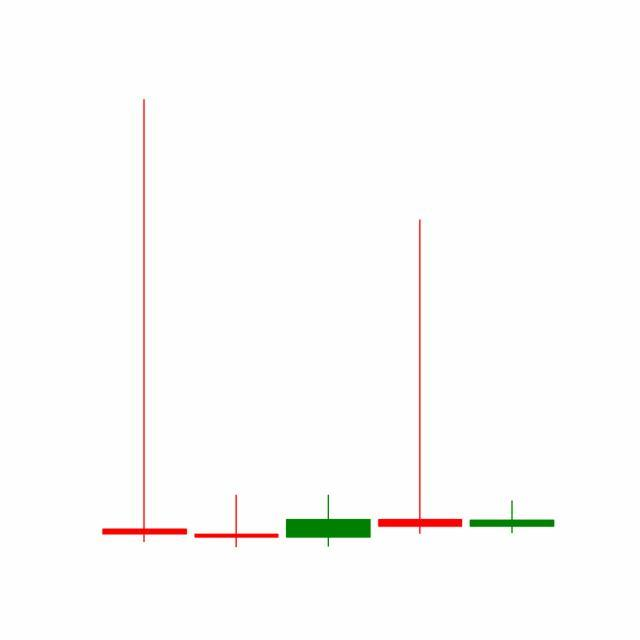Gravestone Doji: (466, 501, 559, 535)
